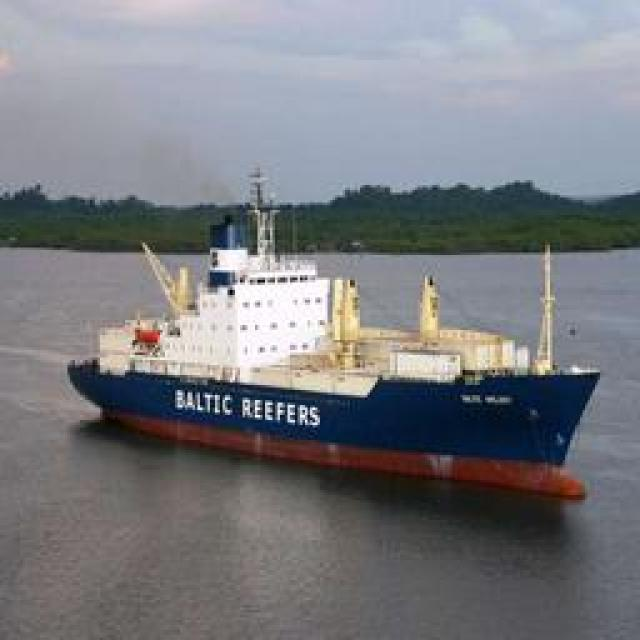ship2: (65, 166, 604, 506)
